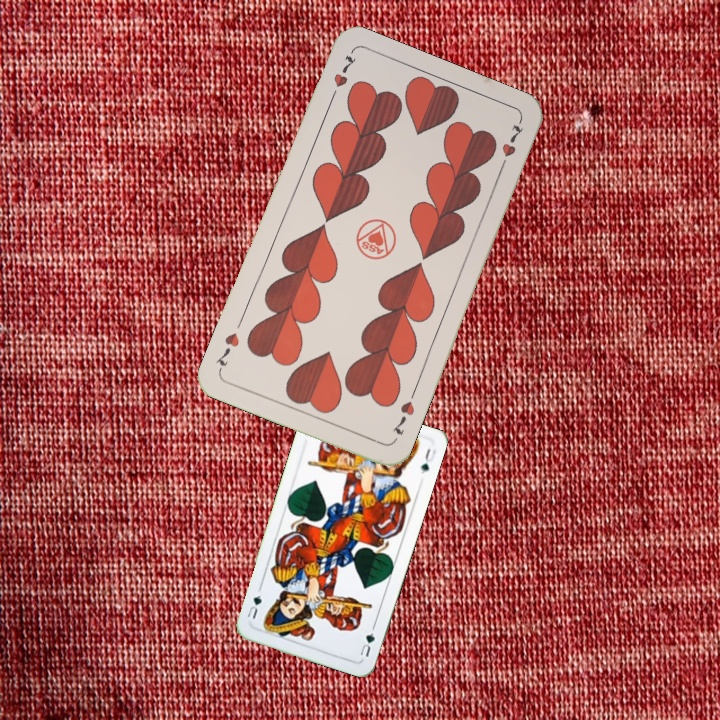GU: (356, 622, 378, 659)
H7: (325, 51, 359, 105), (388, 386, 418, 438)
